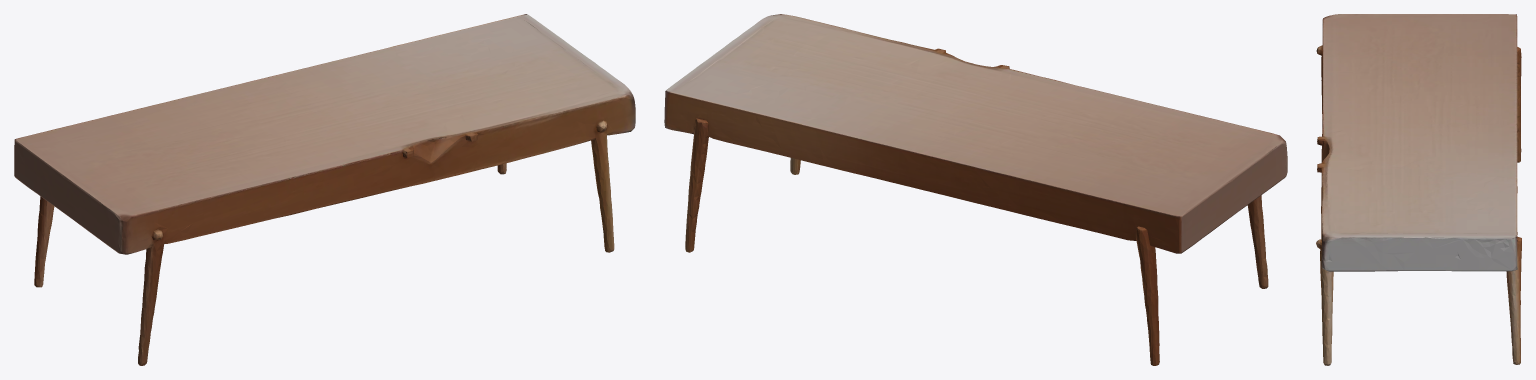
File: ast_22654404df94.glb
3 renders of one model, left to right at view 1: azimuth 30°, elevation 25°; view 2: azimuth 150°, elevation 25°; view 3: azimuth 270°, elevation 25°, orthographic. The views are drawn at different scales.
Visible parts, largest first — view 1: geometry_0; view 2: geometry_0; view 3: geometry_0.
Boxes of the visible parts, bbox=[...] form: geometry_0: bbox=[14, 14, 635, 365]; geometry_0: bbox=[664, 14, 1287, 365]; geometry_0: bbox=[1316, 14, 1521, 365].
Size of the model in its own units: 1 by 0.2867 by 0.3883.
Materials: 1 (1 with a texture image).
